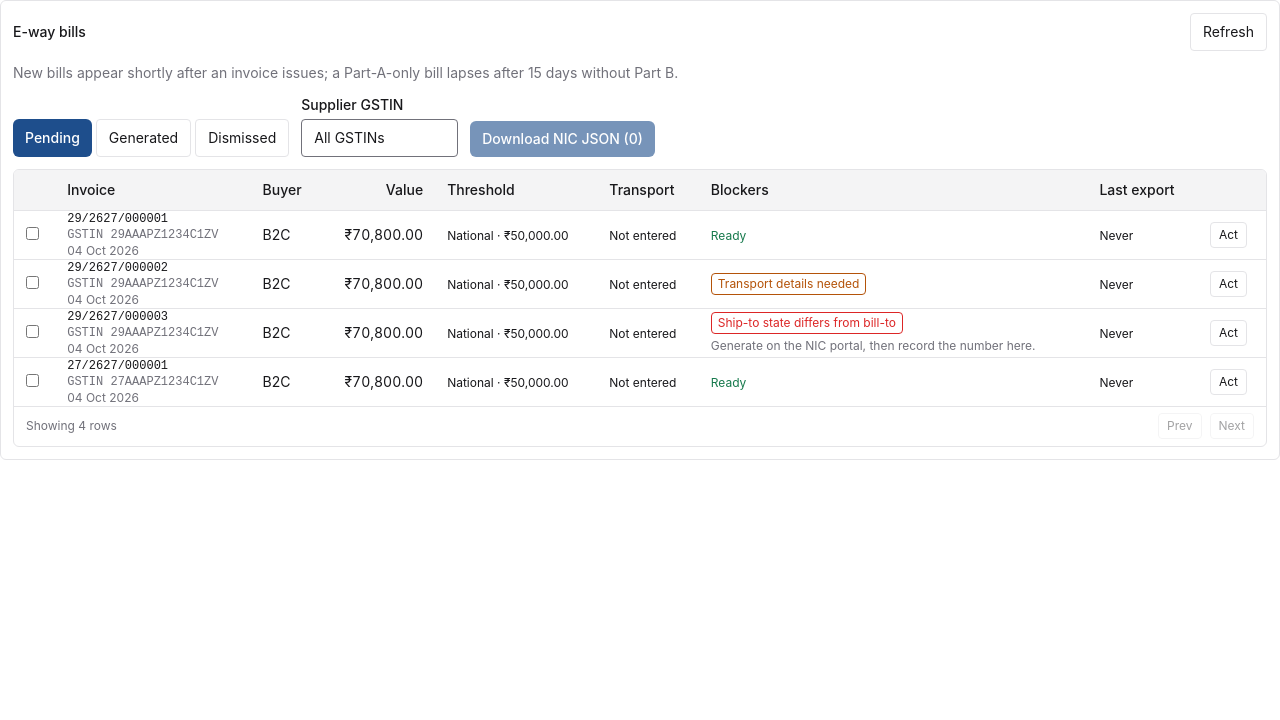
Scenario: the e-way bills section › selection is one GSTIN; Download posts ONLY the ready bills, counts the skipped, and downloads the file
Expected: the button "Download NIC JSON (0)" is disabled, [470,121,655,157]
Click the checkbox named "Select 29/2627/000001" at (32, 233), box [26,226,39,240]
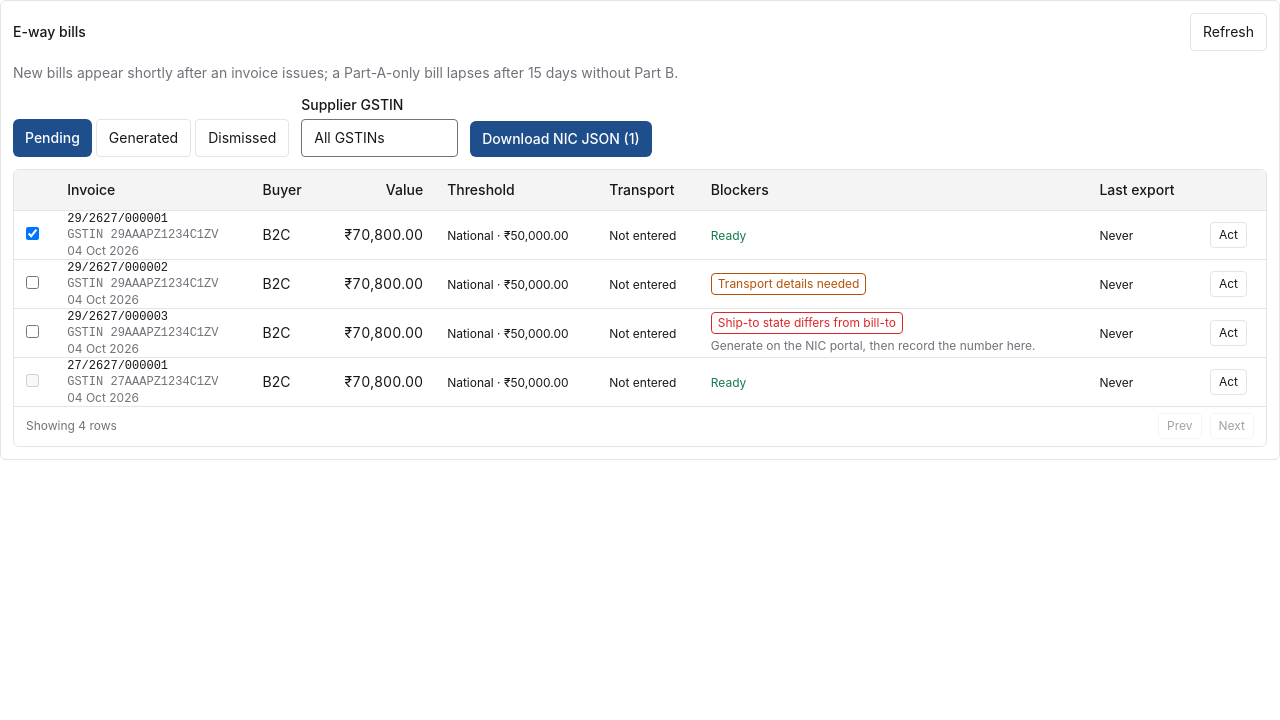
Click the checkbox named "Select 29/2627/000002" at (32, 282), box [26,276,39,288]
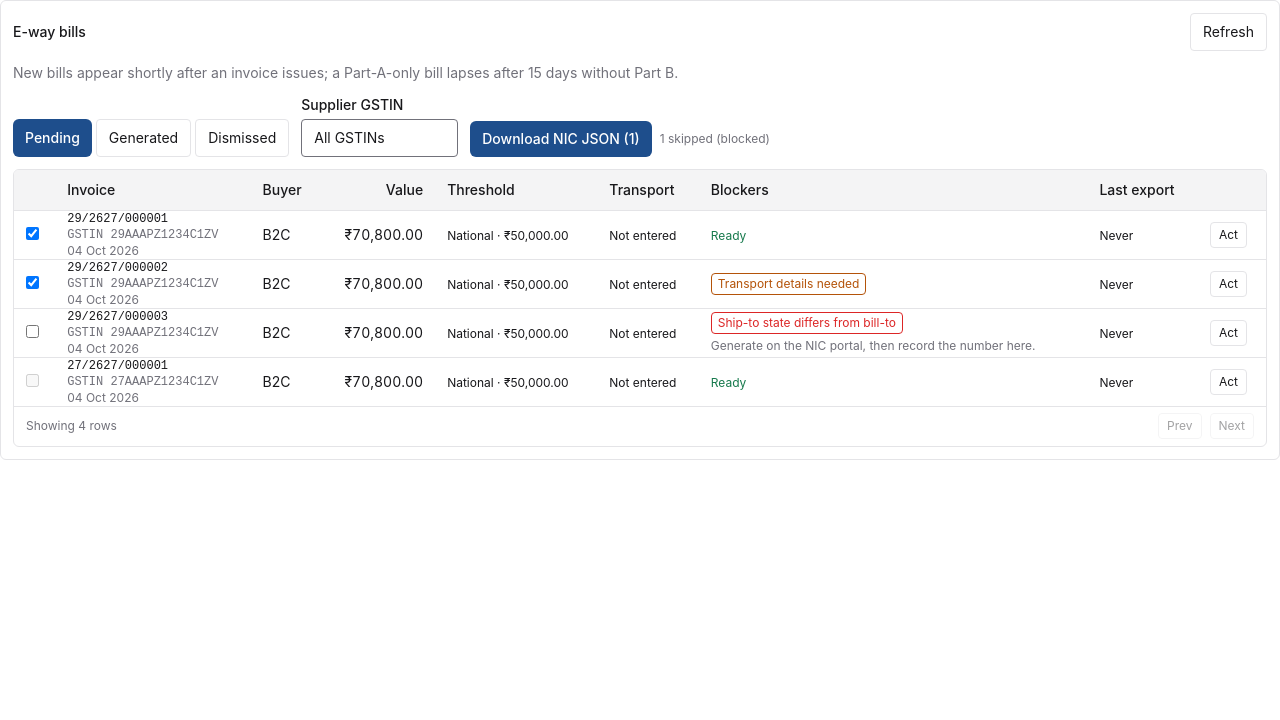
Result: the text "1 skipped (blocked)" is shown at [660,131,770,147]
Click the button "Download NIC JSON (1)" at (561, 139), box [470,121,652,157]
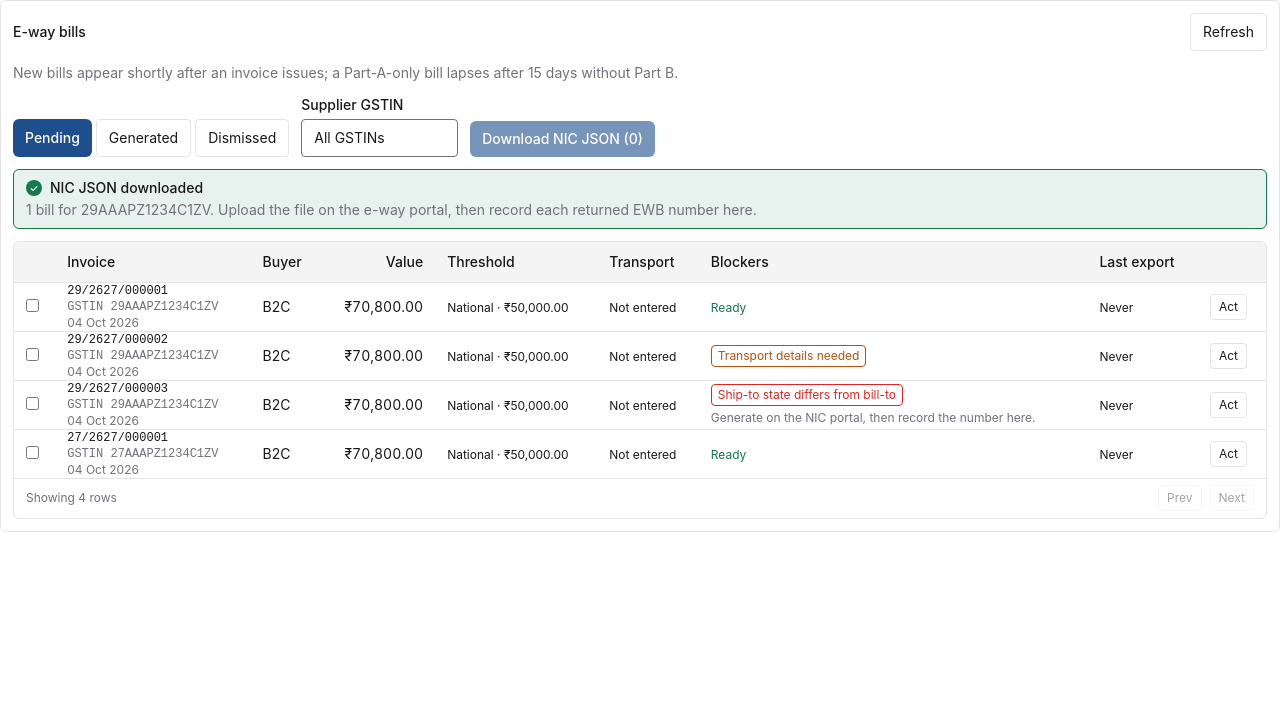
Result: the text "NIC JSON downloaded" is shown at [50,179,203,196]
